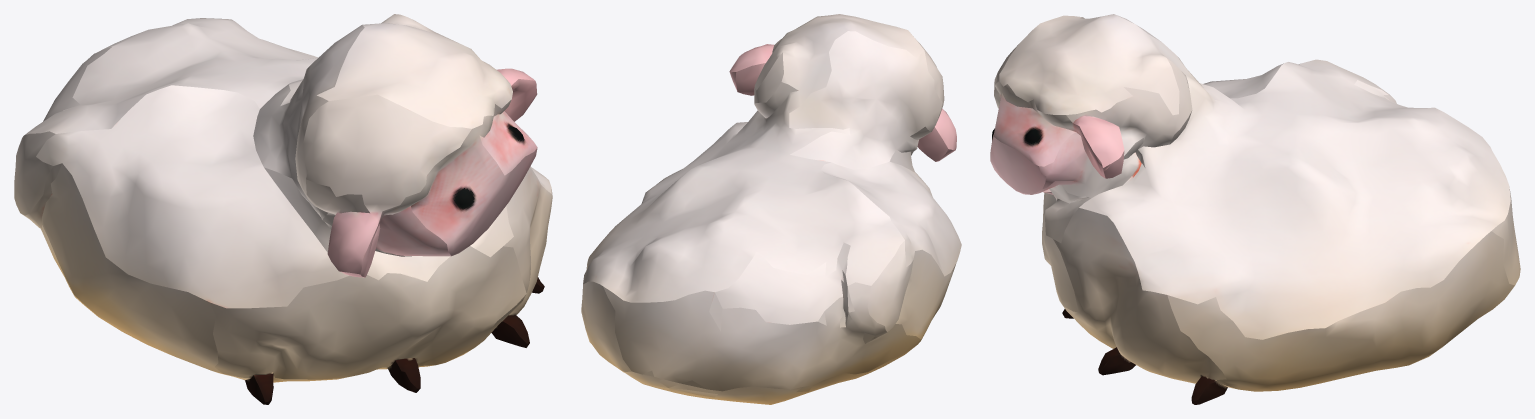
The model's file is CHAR_04.glb.
The picture shows the model from 3 angles, left to right: view 1: azimuth 30°, elevation 25°; view 2: azimuth 150°, elevation 25°; view 3: azimuth 270°, elevation 25°; orthographic projection. The views are drawn at different scales.
Visible parts, largest first — view 1: world; view 2: world; view 3: world.
Part boxes in pixels (left/top/right/bottom): world: left=14, top=14, right=552, bottom=404; world: left=581, top=14, right=961, bottom=404; world: left=990, top=14, right=1520, bottom=404.
Bounding box in the file's own units: 0.7932 × 0.6249 × 1.
1 material, 1 textured.
